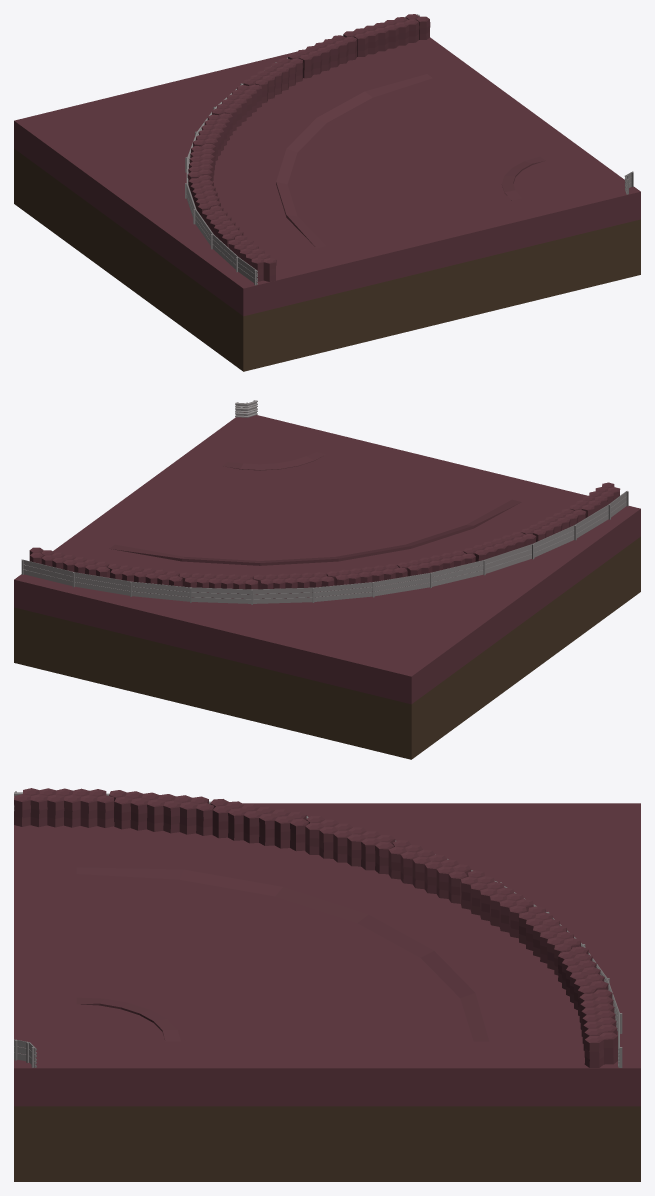
File: tile-race-track-curve.fbx
The picture shows the model from 3 angles, top to bottom: view 1: azimuth 30°, elevation 25°; view 2: azimuth 150°, elevation 25°; view 3: azimuth 270°, elevation 25°; orthographic projection. The views are drawn at different scales.
Visible parts, largest first — view 1: tile-race-track-curve; view 2: tile-race-track-curve; view 3: tile-race-track-curve.
Boxes of the visible parts, box(x1,y1,x2,y2) form: tile-race-track-curve: box(14, 14, 640, 371); tile-race-track-curve: box(14, 400, 640, 759); tile-race-track-curve: box(14, 788, 640, 1181).
Size of the model in its own units: 30 by 7.32 by 30.
